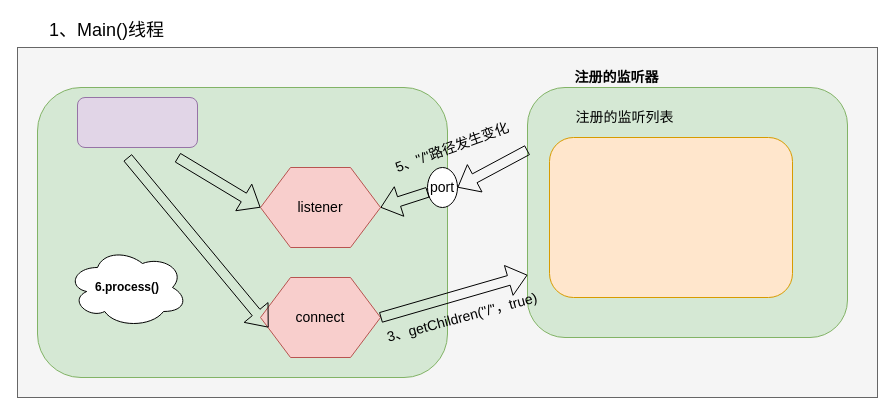
The diagram is 895 pixels wide and 415 high, and some of its shapes have lost their labels. Here are the shapes that lost their labels. From the top down, the centre of each, then its label:
the point at 137,122: 2、创建zookeeper对象
the point at 670,217: 4、client:ip port./path
